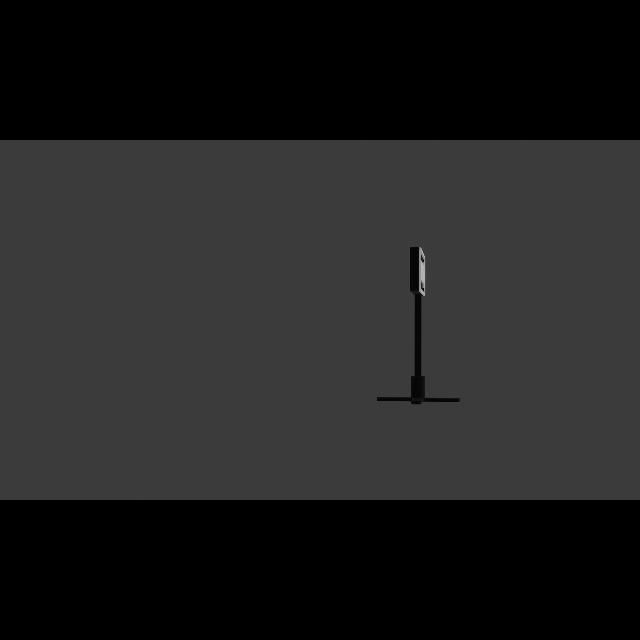sign_oneway_right: (411, 247, 427, 298)
